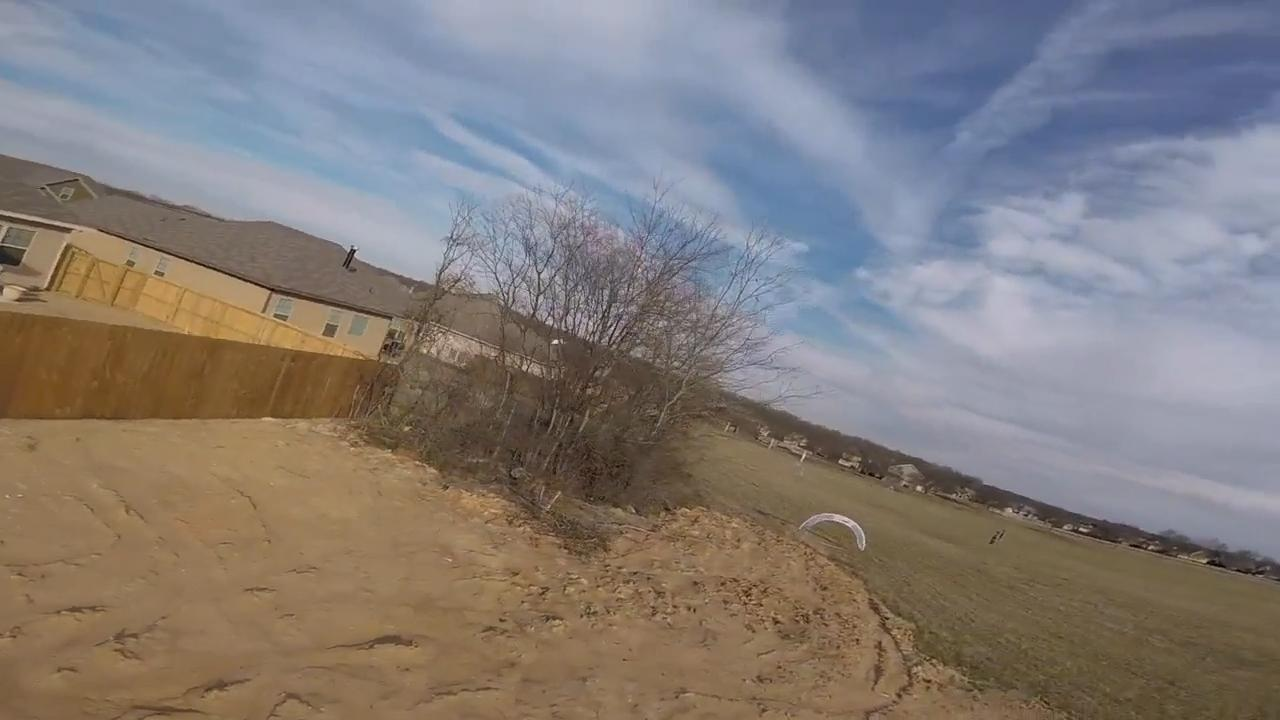gate: (797, 512, 868, 562)
